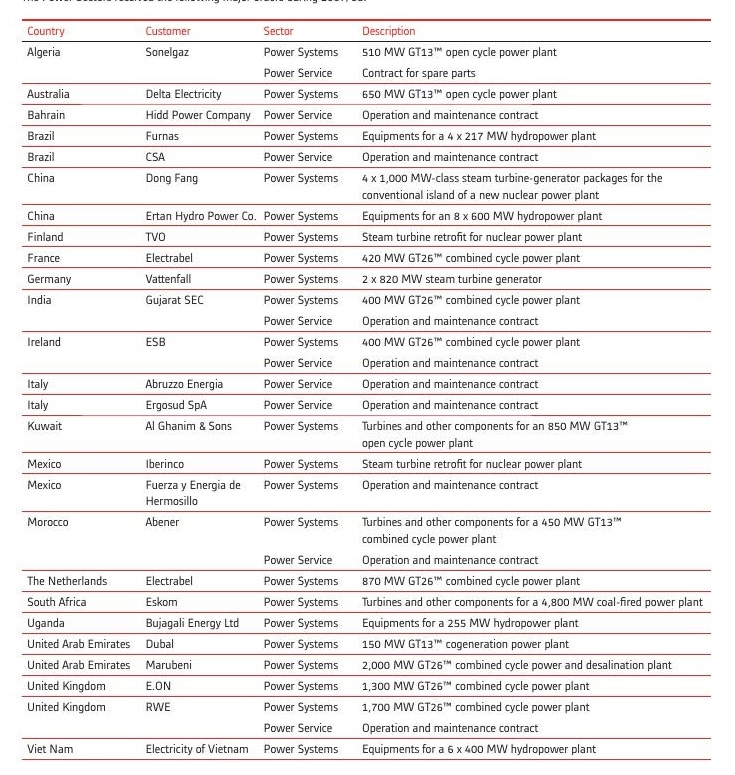table: (0, 0, 735, 775)
